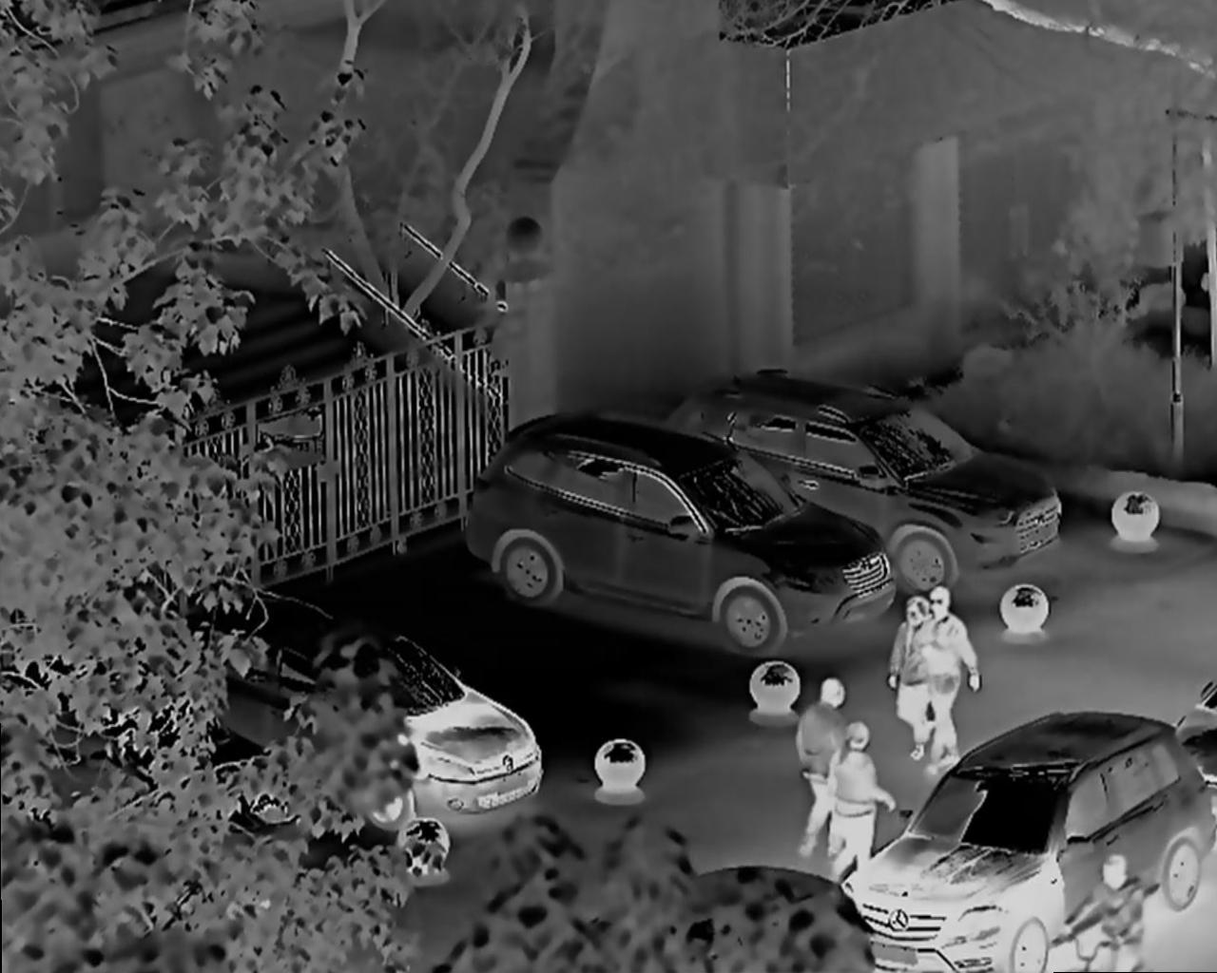person: (921, 579, 984, 767), (1059, 852, 1144, 969), (830, 717, 888, 864), (895, 585, 933, 765), (804, 671, 837, 845)
